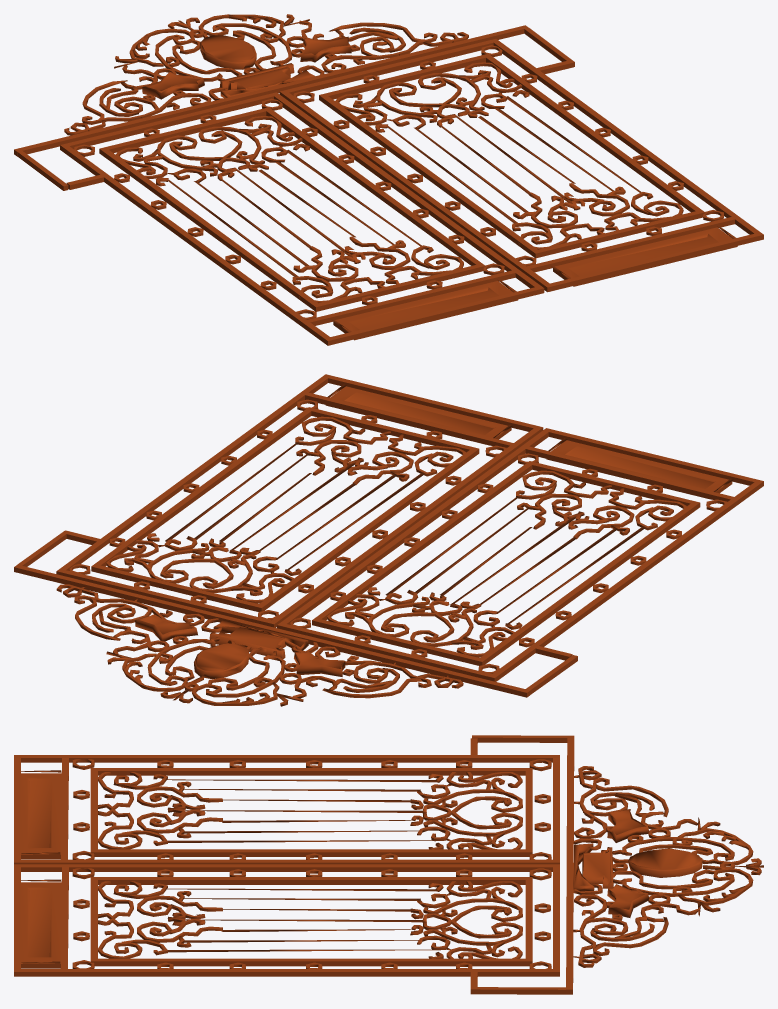
The model's file is Door.FBX.
3 views of the same model, one above another, from view 1: azimuth 30°, elevation 25°; view 2: azimuth 150°, elevation 25°; view 3: azimuth 270°, elevation 25° (orthographic).
Parts seen in each view (by area): view 1: Door; view 2: Door; view 3: Door.
Boxes of the visible parts, x1,y1,x2,y2 form: Door: (14, 14, 763, 345); Door: (14, 374, 763, 706); Door: (14, 735, 763, 994).
Bounding box in the file's own units: 26957 × 695 × 33563.
